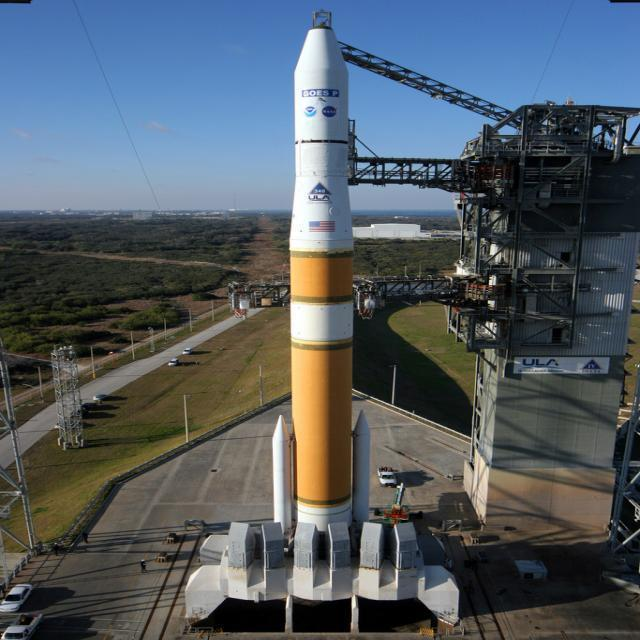missile: (282, 12, 354, 545)
